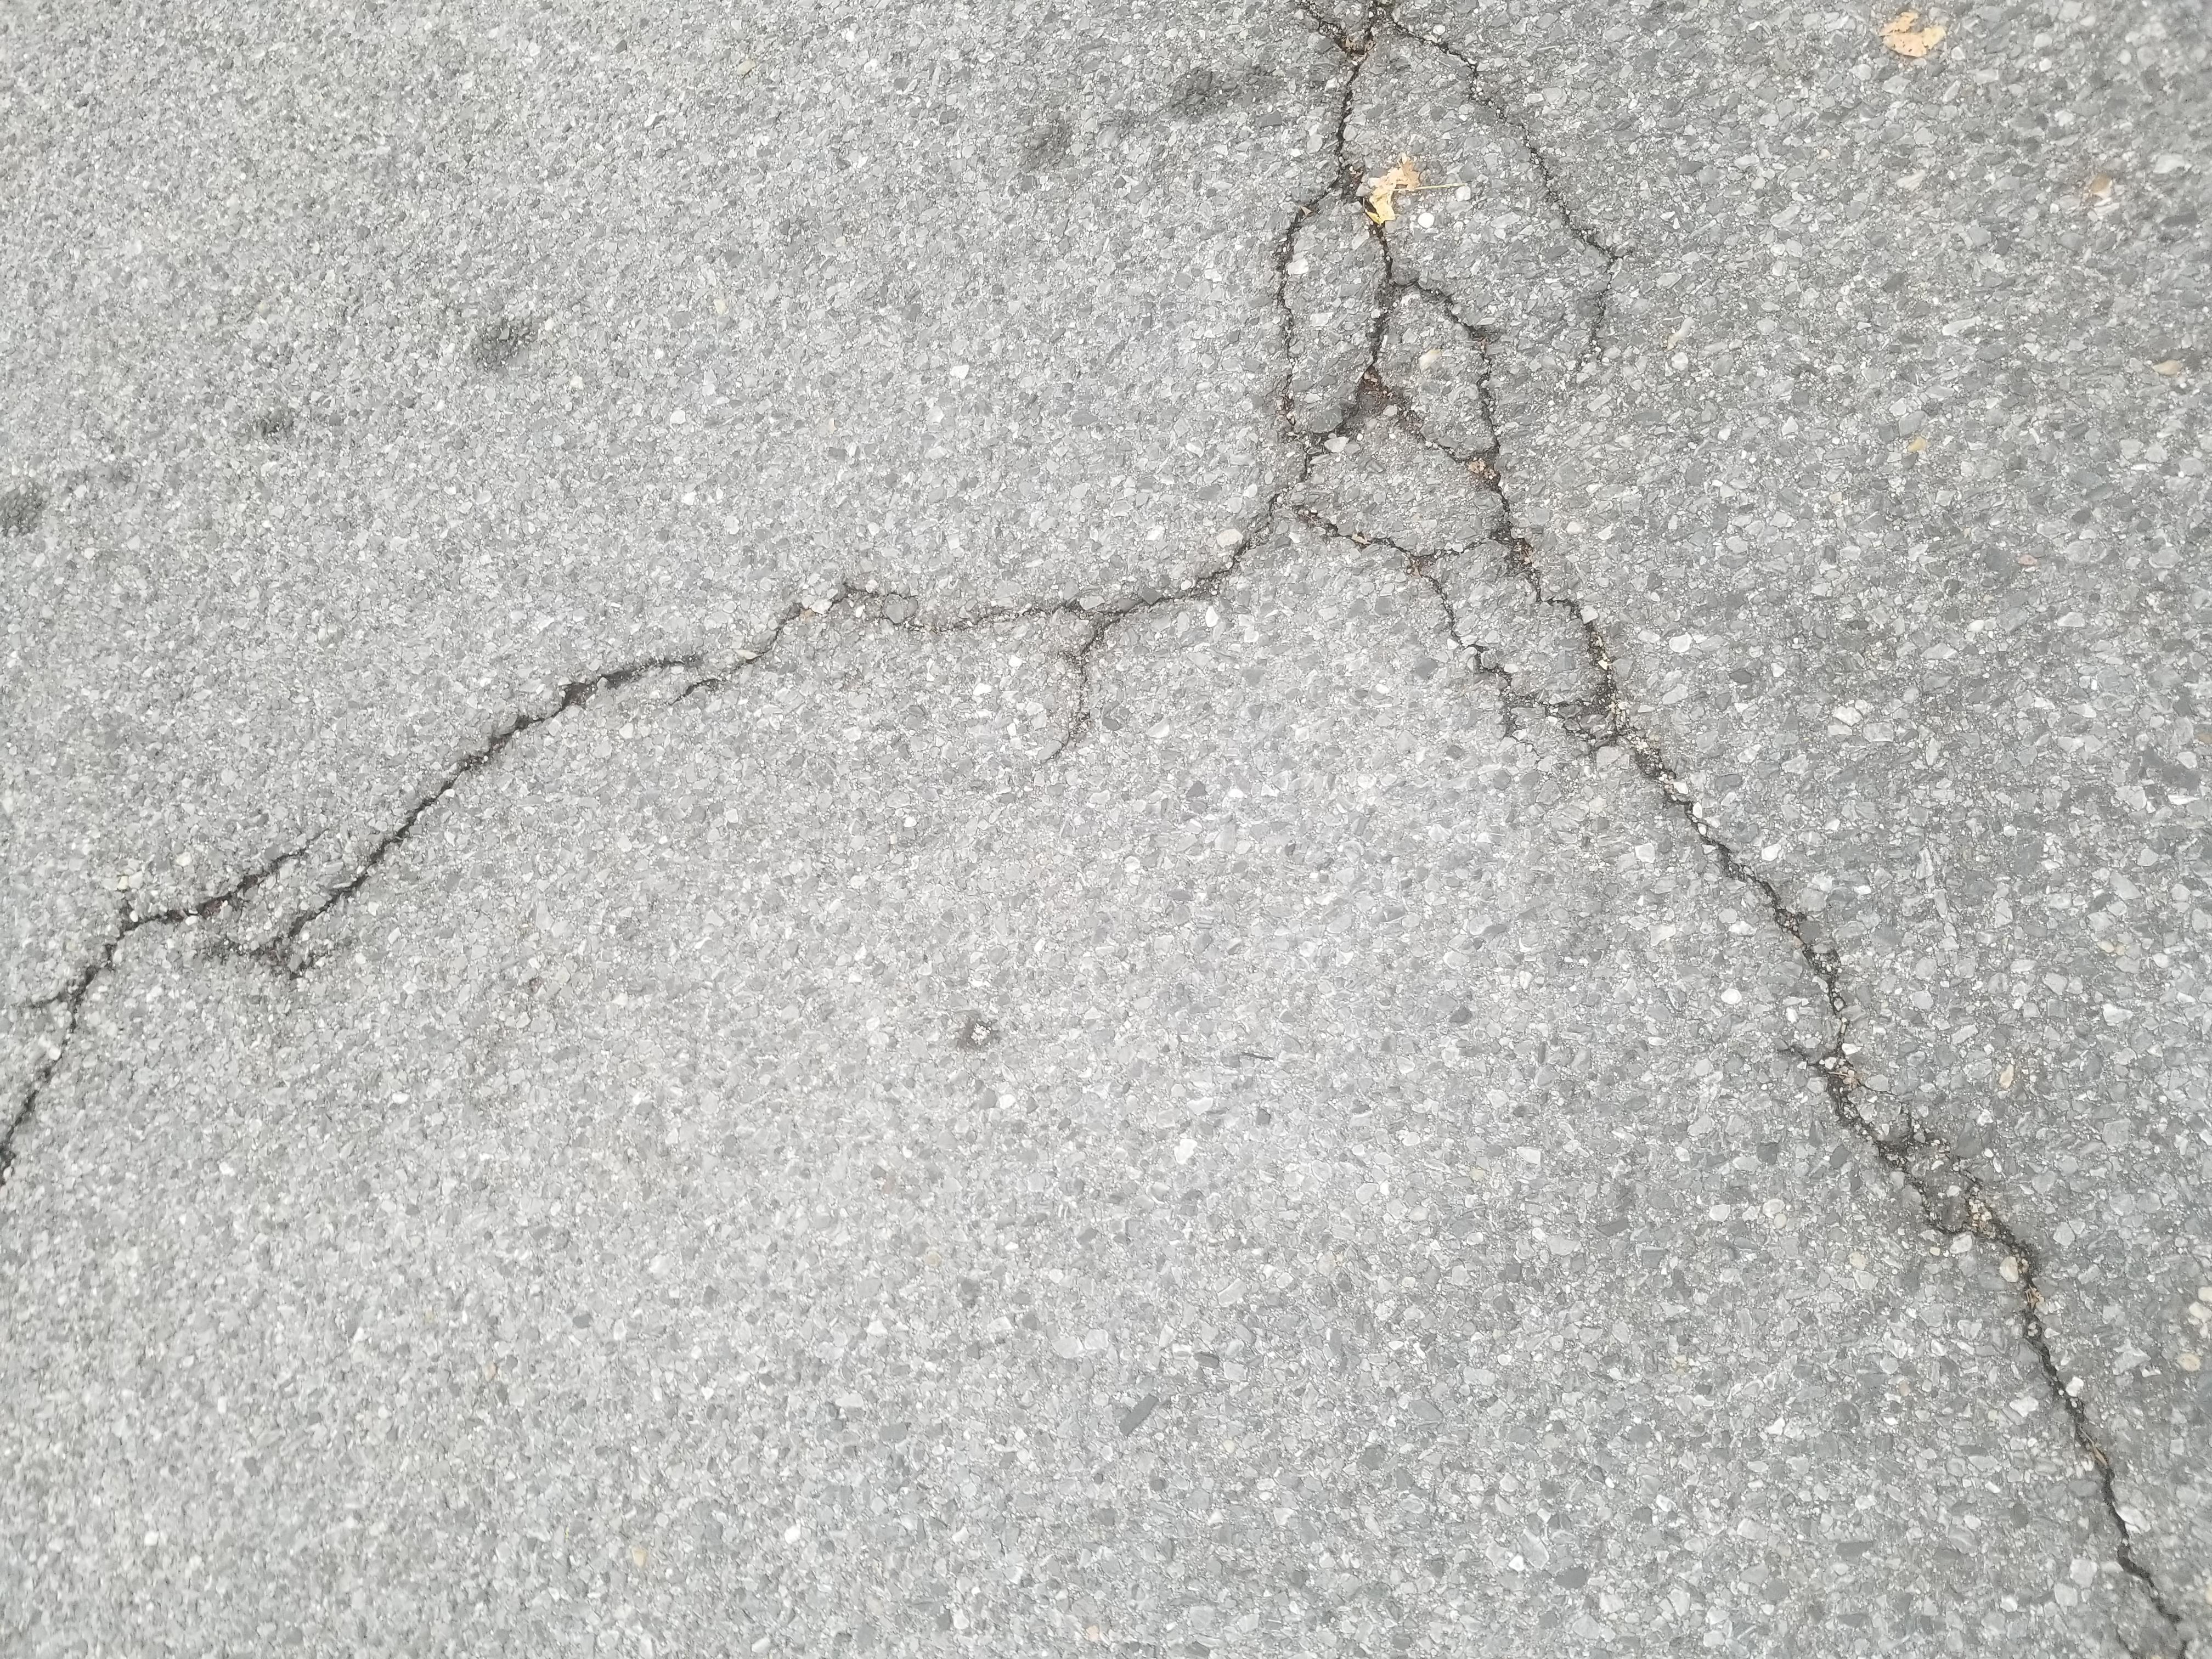crack: (625, 0, 2212, 1025), (16, 1021, 2212, 1642)
